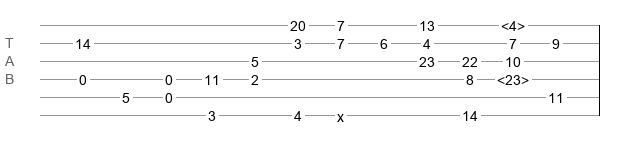0: (79, 72, 87, 82), (165, 90, 173, 100), (165, 72, 173, 82)
10: (505, 54, 521, 64)
11: (204, 72, 220, 82), (548, 90, 564, 100)
13: (419, 18, 435, 28)
14: (75, 36, 91, 46), (462, 108, 478, 118)
2: (251, 72, 259, 82)
20: (290, 18, 306, 28)
22: (462, 54, 478, 64)
23: (419, 54, 435, 64)
3: (208, 108, 216, 118), (294, 36, 302, 46)
4: (294, 108, 302, 118), (423, 36, 431, 46)
5: (122, 90, 130, 100), (251, 54, 259, 64)
6: (380, 36, 388, 46)
7: (337, 36, 345, 46), (337, 18, 345, 28), (509, 36, 517, 46)
8: (466, 72, 474, 82)
9: (552, 36, 560, 46)
harmonic: (497, 72, 529, 82), (501, 18, 525, 28)
x: (337, 109, 344, 117)
